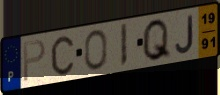C: (50, 34, 76, 77)
I: (119, 22, 129, 70)
J: (174, 13, 195, 55)
O: (83, 28, 109, 72)
P: (22, 37, 47, 84)
Q: (141, 17, 173, 63)
